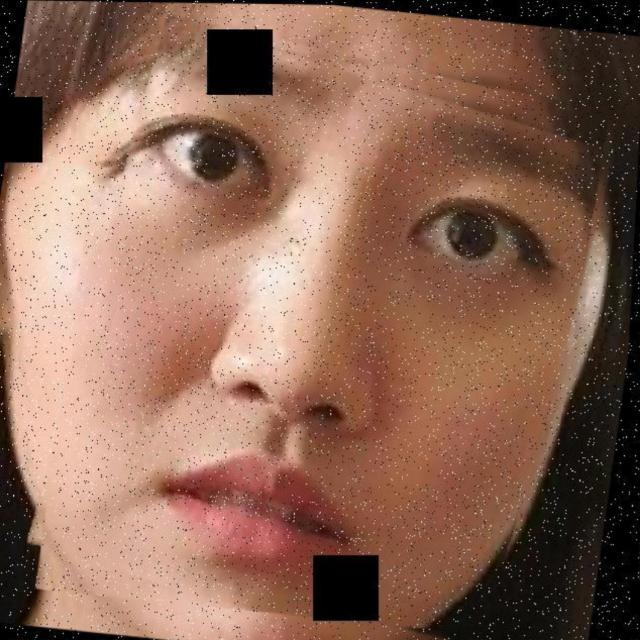Disgust: (74, 28, 566, 640)
